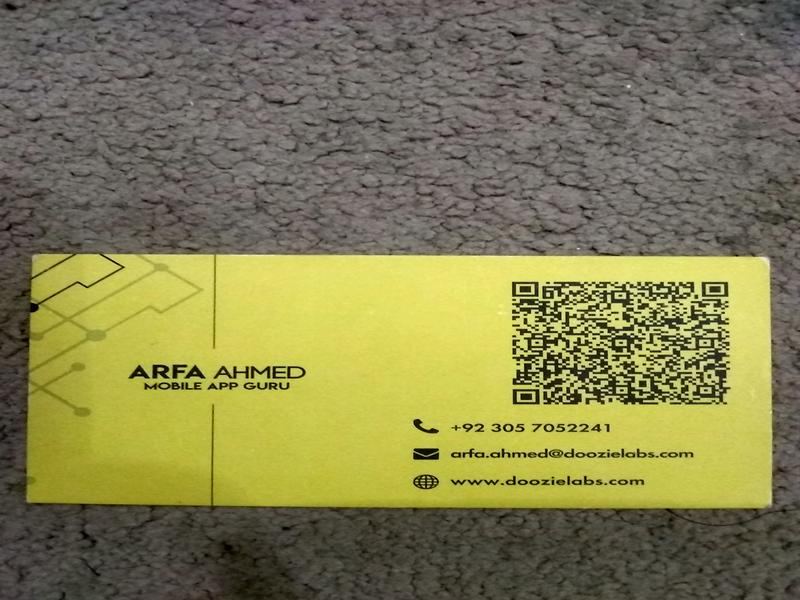front: (27, 254, 773, 510)
